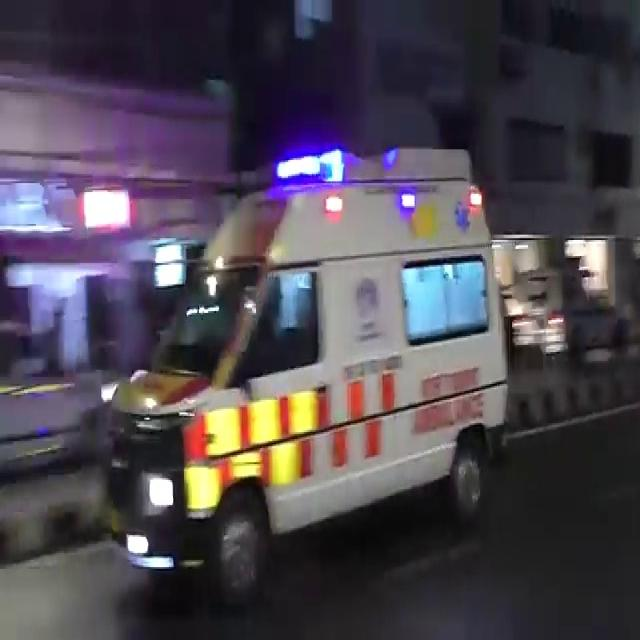ambulance: (97, 168, 543, 496)
